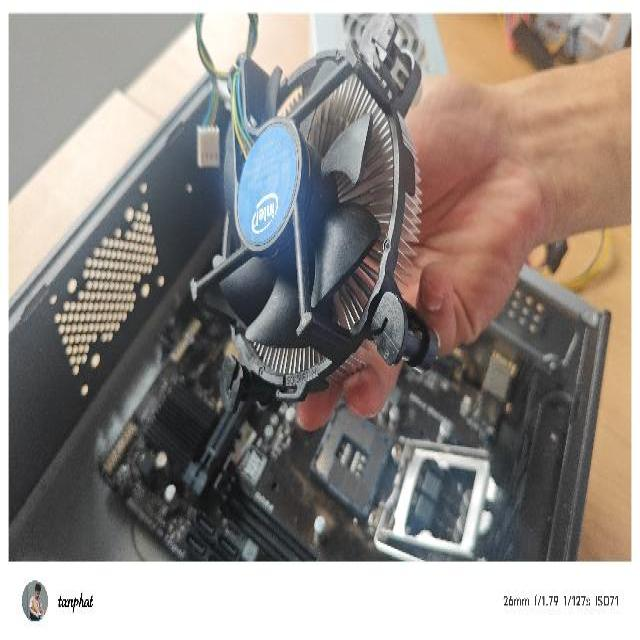CPU_Fan: (183, 16, 442, 414)
